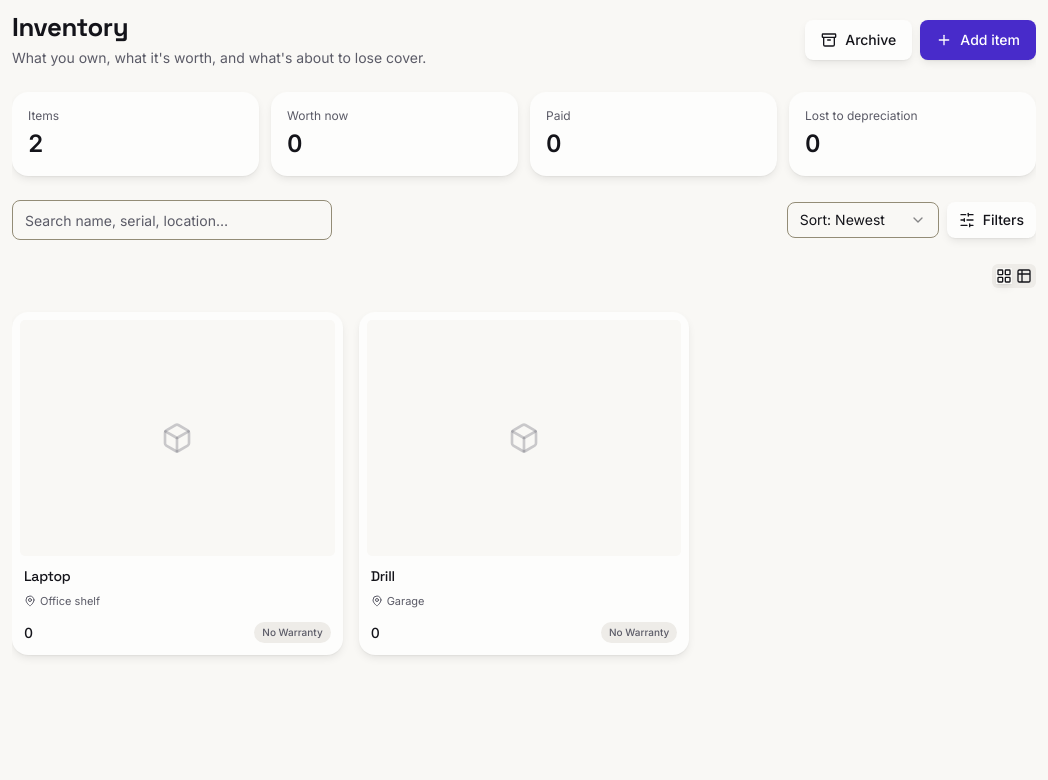
InventoryPage › searches location as well as name
In the search field named "Search inventory": (172, 220) [12,200,332,240], type "garage"
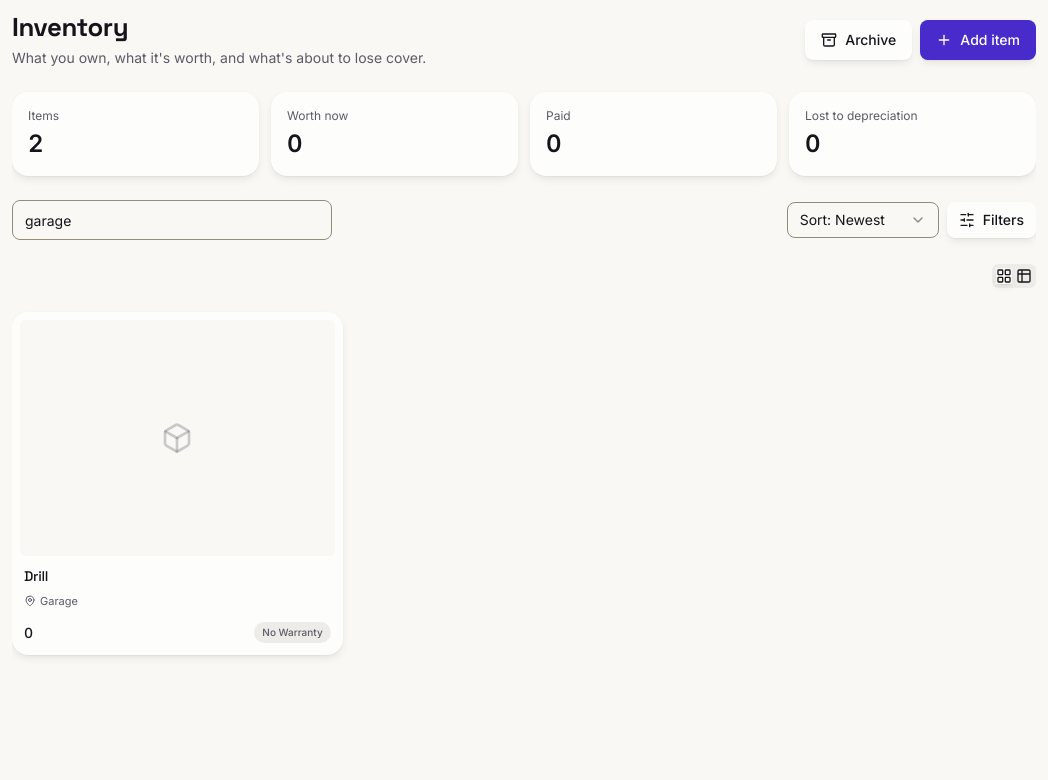
Expected: the heading "Drill" is shown, [24,567,48,585]
Expected: the heading "Laptop" is gone
